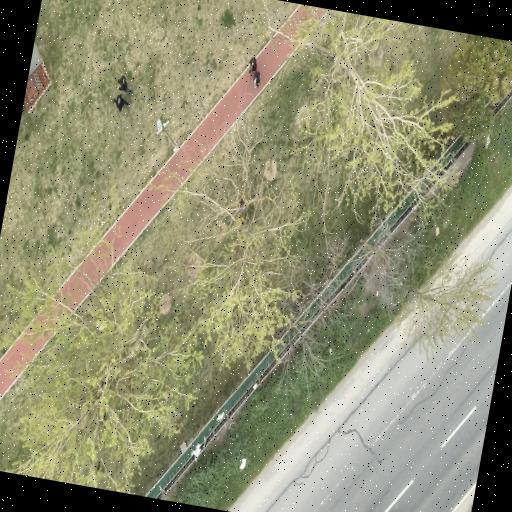person: (113, 94, 129, 111), (116, 75, 131, 92), (248, 57, 256, 74), (252, 72, 259, 88)
